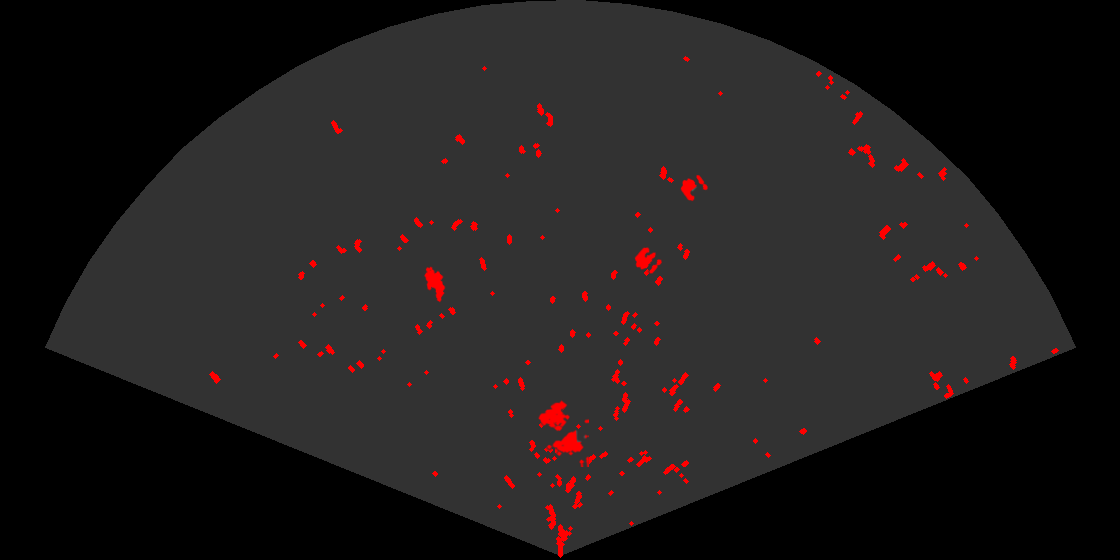AUV: (423, 265, 447, 304)
ball: (679, 173, 709, 203), (633, 246, 663, 275)
cage: (537, 398, 589, 467)
